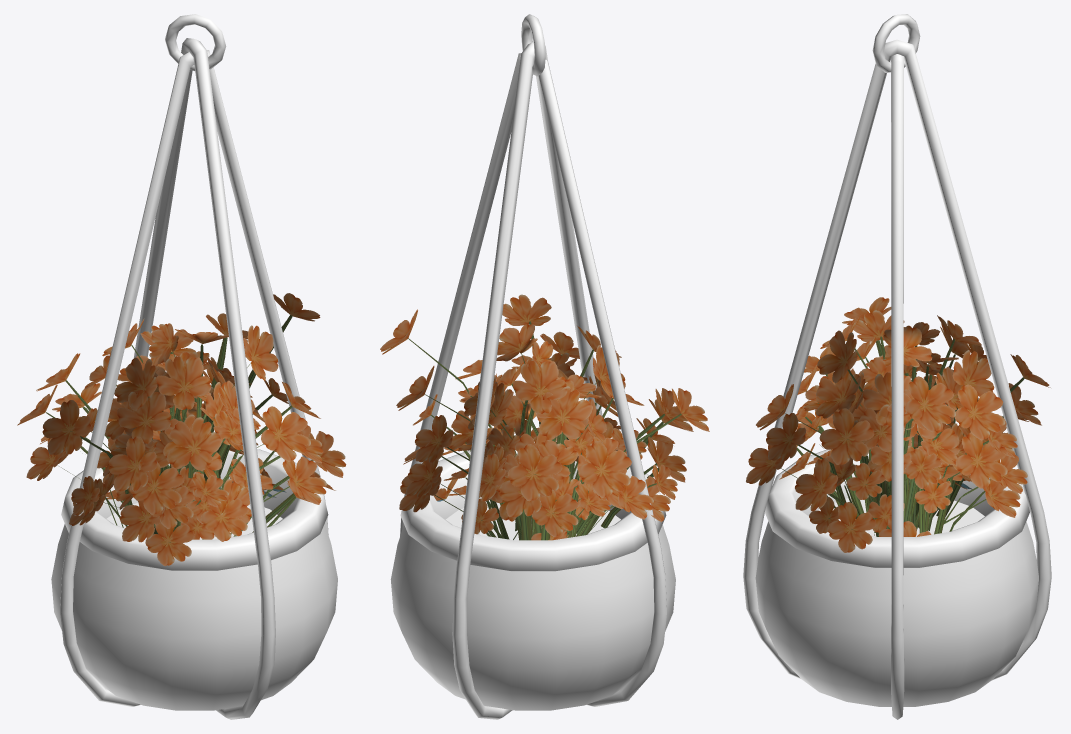
File: SM_Potted_Orange_Flower_E.fbx
3 renders of one model, left to right at view 1: azimuth 30°, elevation 25°; view 2: azimuth 150°, elevation 25°; view 3: azimuth 270°, elevation 25°, orthographic.
Visible parts, largest first — view 1: SM_Potted_Orange_Flower_E_LOD0; view 2: SM_Potted_Orange_Flower_E_LOD0; view 3: SM_Potted_Orange_Flower_E_LOD0.
Boxes of the visible parts, <box> form: SM_Potted_Orange_Flower_E_LOD0: <box>17,14,346,719</box>; SM_Potted_Orange_Flower_E_LOD0: <box>380,14,709,719</box>; SM_Potted_Orange_Flower_E_LOD0: <box>743,14,1051,719</box>.
Size of the model in its own units: 33.38 by 30.23 by 71.54.
2 materials, 1 textured.
